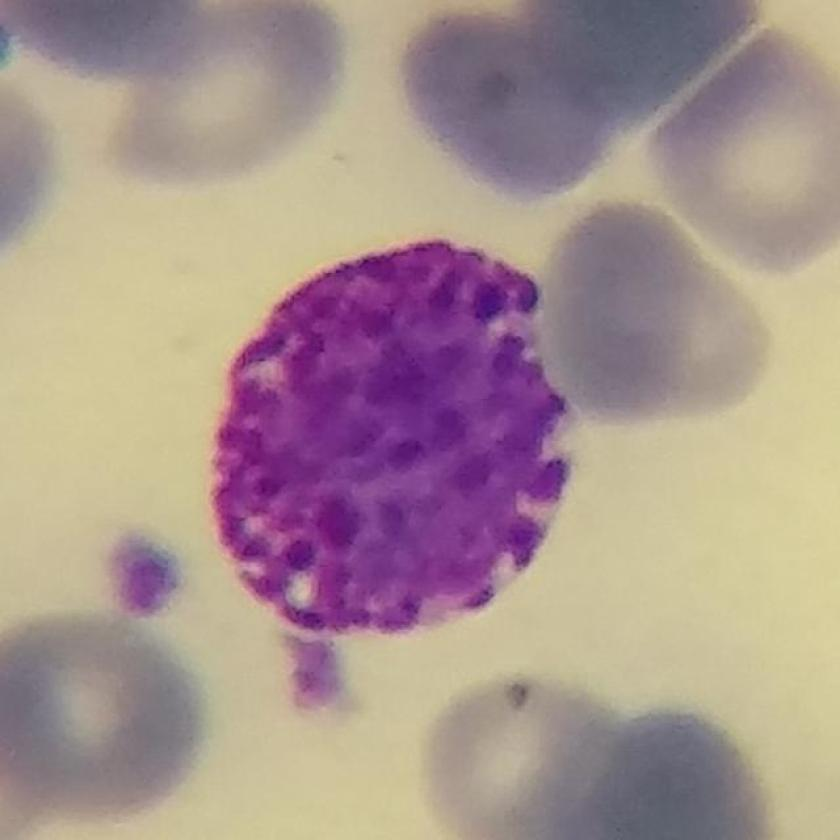basophil: (215, 235, 581, 643)
